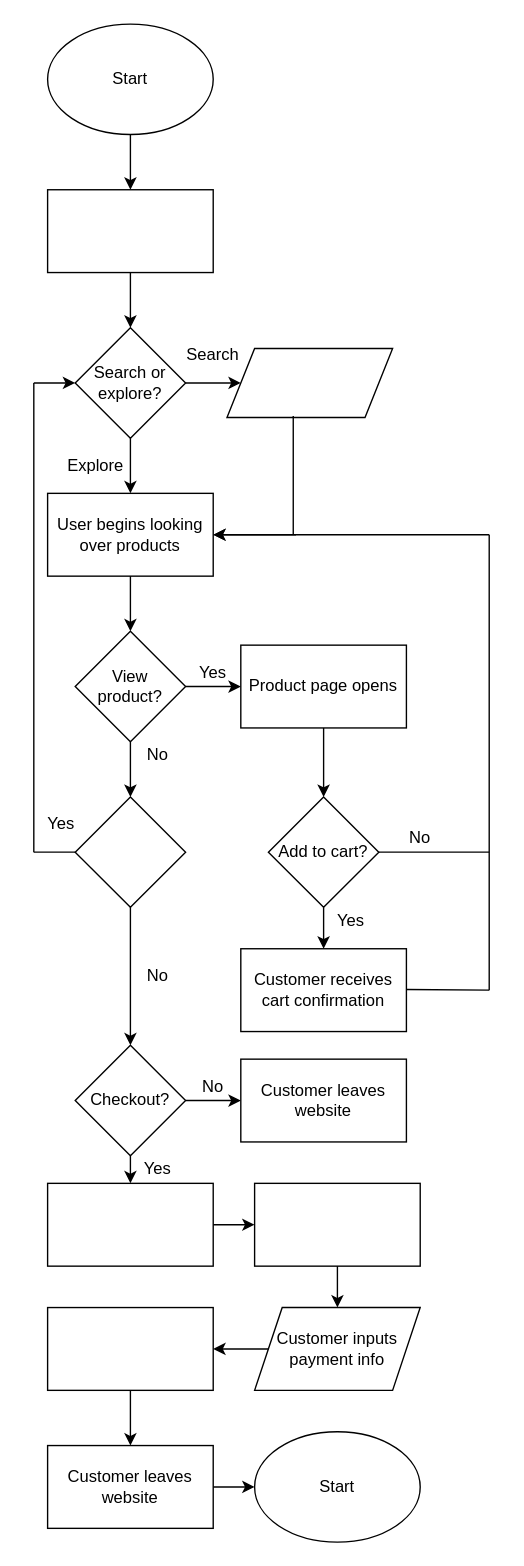
This 524x1566 diagram has some shape labels left out. Each missing label, with the centre of its shape:
"Customer goes to View Cart" goes at (129,1224).
"Customer goes to View Payment" goes at (336,1224).
"Customer sees order confirmation and receives email" goes at (129,1348).
"Keep shopping?" goes at (130,851).
"User enters the website" goes at (129,230).
"User provides input to website" goes at (309,382).
